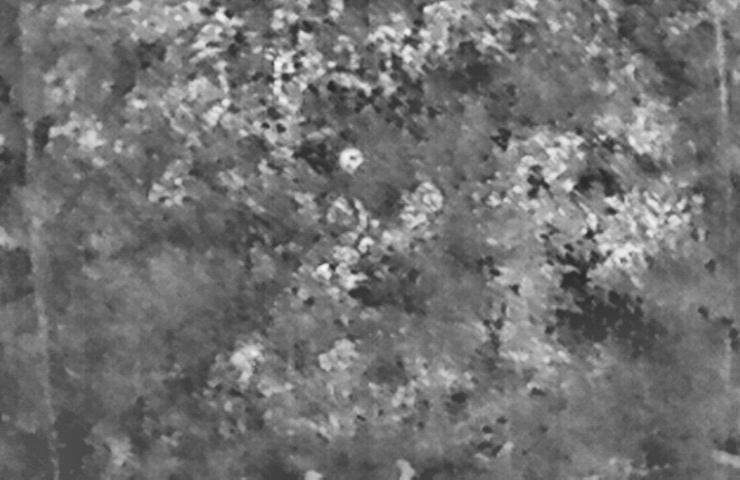landmines: (336, 145, 367, 177)
